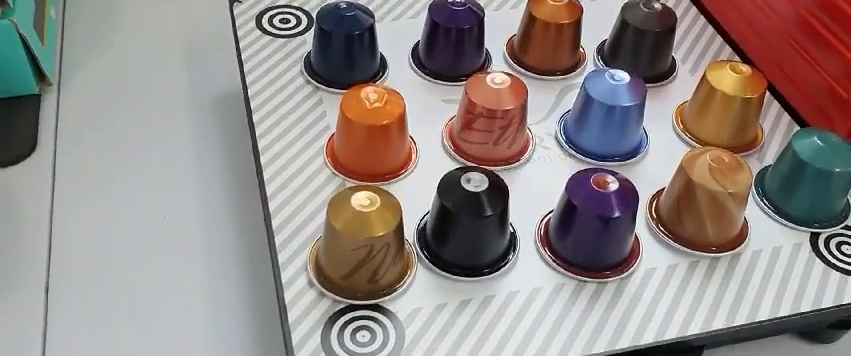capsule_1: (295, 2, 391, 92)
capsule_10: (414, 166, 519, 278)
capsule_11: (543, 166, 646, 282)
capsule_12: (650, 145, 754, 257)
capsule_13: (754, 124, 851, 238)
capsule_2: (411, 1, 494, 78)
capsule_3: (504, 1, 595, 81)
capsule_4: (595, 1, 682, 90)
capsule_5: (325, 85, 420, 184)
capsule_6: (439, 66, 538, 172)
capsule_7: (555, 69, 655, 168)
capsule_8: (672, 58, 769, 158)
capsule_9: (307, 184, 419, 306)
